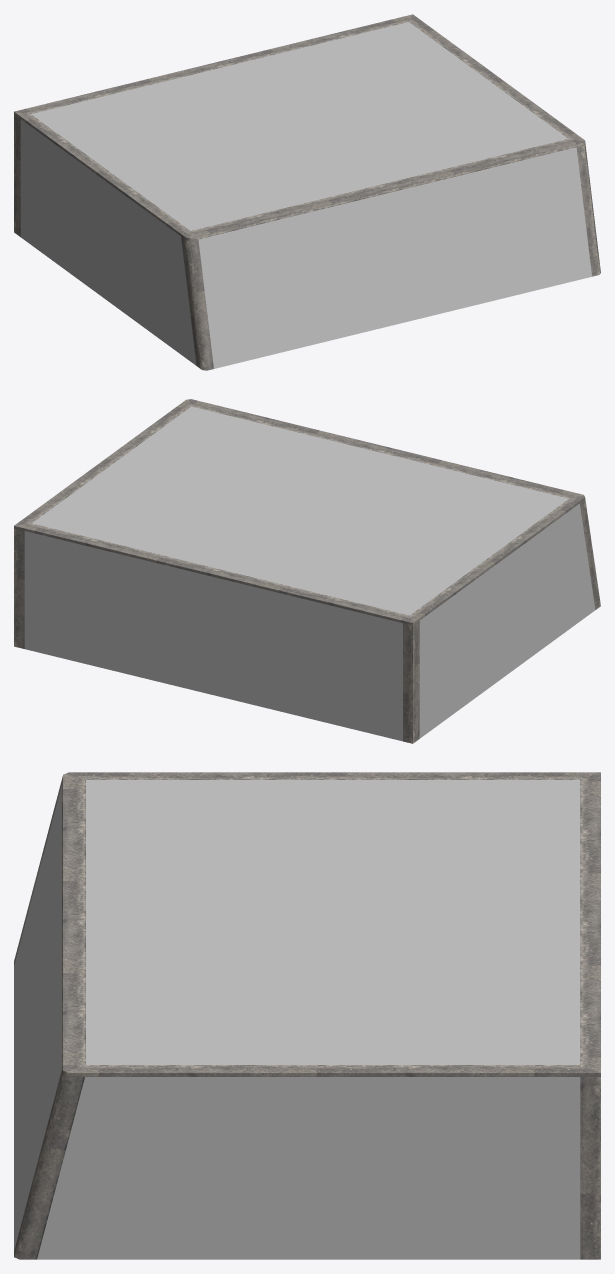
File: JpHouseJ_StoneWall_05a.fbx
3 renders of one model, top to bottom at view 1: azimuth 30°, elevation 25°; view 2: azimuth 150°, elevation 25°; view 3: azimuth 270°, elevation 25°, orthographic. The views are drawn at different scales.
Parts seen in each view (by area): view 1: JpHouseJ_StoneWall_05a; view 2: JpHouseJ_StoneWall_05a; view 3: JpHouseJ_StoneWall_05a.
Part boxes in pixels (x1=…): JpHouseJ_StoneWall_05a: x1=14, y1=14, x2=600, y2=370; JpHouseJ_StoneWall_05a: x1=14, y1=399, x2=600, y2=743; JpHouseJ_StoneWall_05a: x1=14, y1=772, x2=600, y2=1259.
Bounding box in the file's own units: 13.31 × 3.85 × 10.98.
